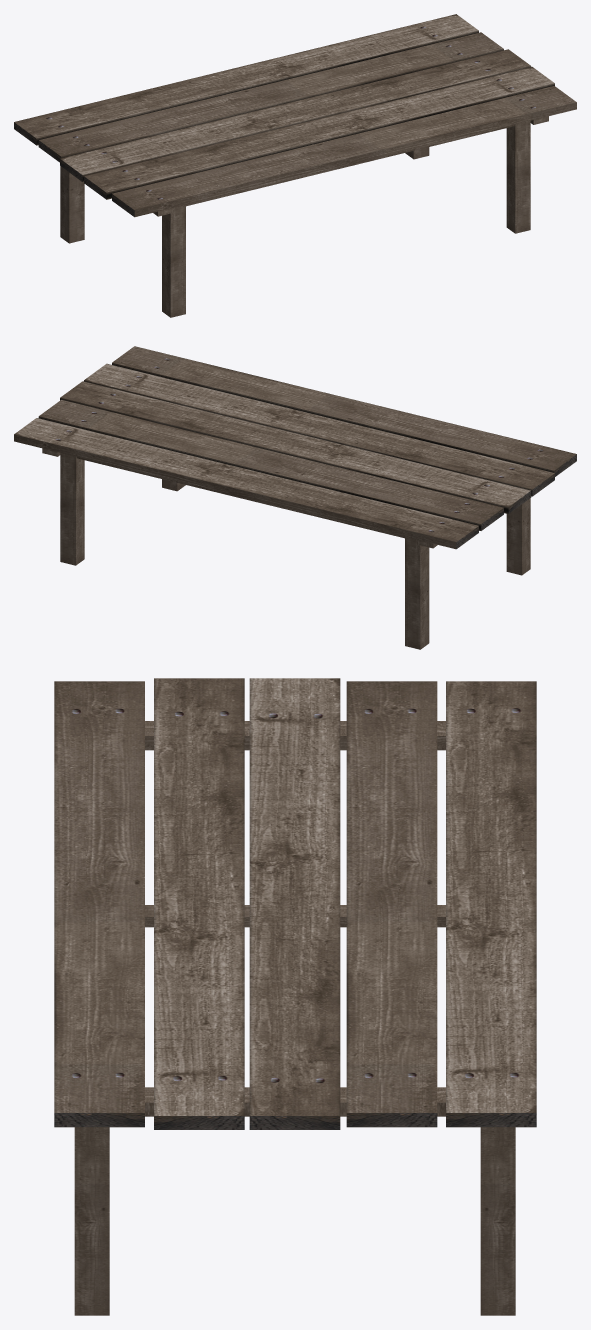
File: largeTable.dae
The picture shows the model from 3 angles, top to bottom: view 1: azimuth 30°, elevation 25°; view 2: azimuth 150°, elevation 25°; view 3: azimuth 270°, elevation 25°; orthographic projection. The views are drawn at different scales.
Visible parts, largest first — view 1: largeTable; view 2: largeTable; view 3: largeTable.
Boxes of the visible parts, <box> form: largeTable: <box>14,14,576,317</box>; largeTable: <box>14,346,576,649</box>; largeTable: <box>54,678,536,1315</box>.
Size of the model in its own units: 3.5 by 0.9052 by 1.63.
1 material, 1 textured.
